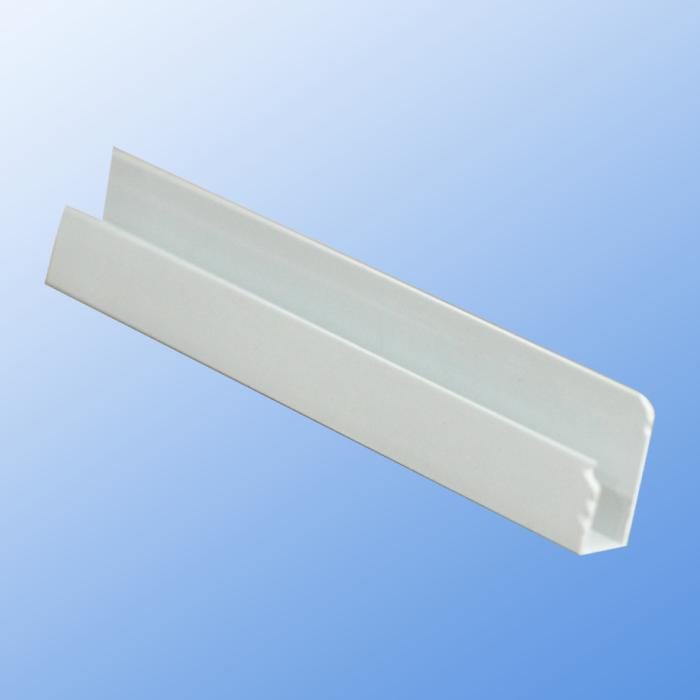PVC: (8, 66, 700, 606)
